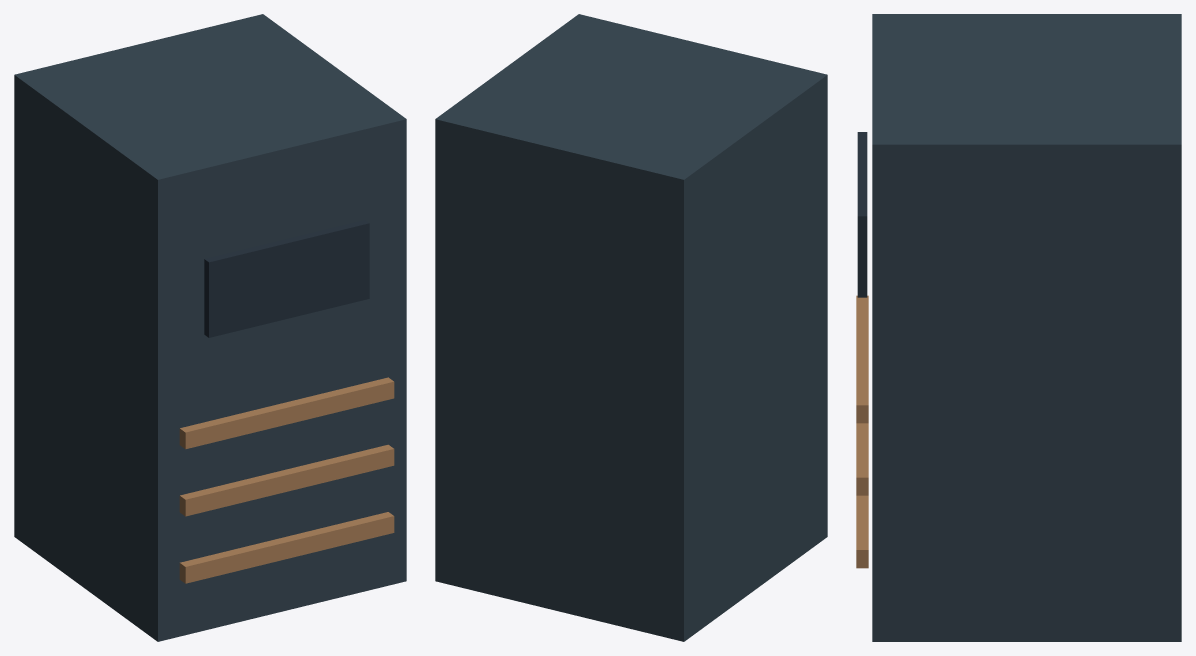
Rendered from Bin.fbx.
The picture shows the model from 3 angles, left to right: view 1: azimuth 30°, elevation 25°; view 2: azimuth 150°, elevation 25°; view 3: azimuth 270°, elevation 25°; orthographic projection. The views are drawn at different scales.
Visible parts, largest first — view 1: Bin.008; view 2: Bin.008; view 3: Bin.008.
Part boxes in pixels (bbox=[...]): Bin.008: bbox=[14, 14, 406, 641]; Bin.008: bbox=[435, 14, 827, 641]; Bin.008: bbox=[856, 14, 1181, 641].
Size of the model in its own units: 0.62 by 1.1 by 0.6525.
